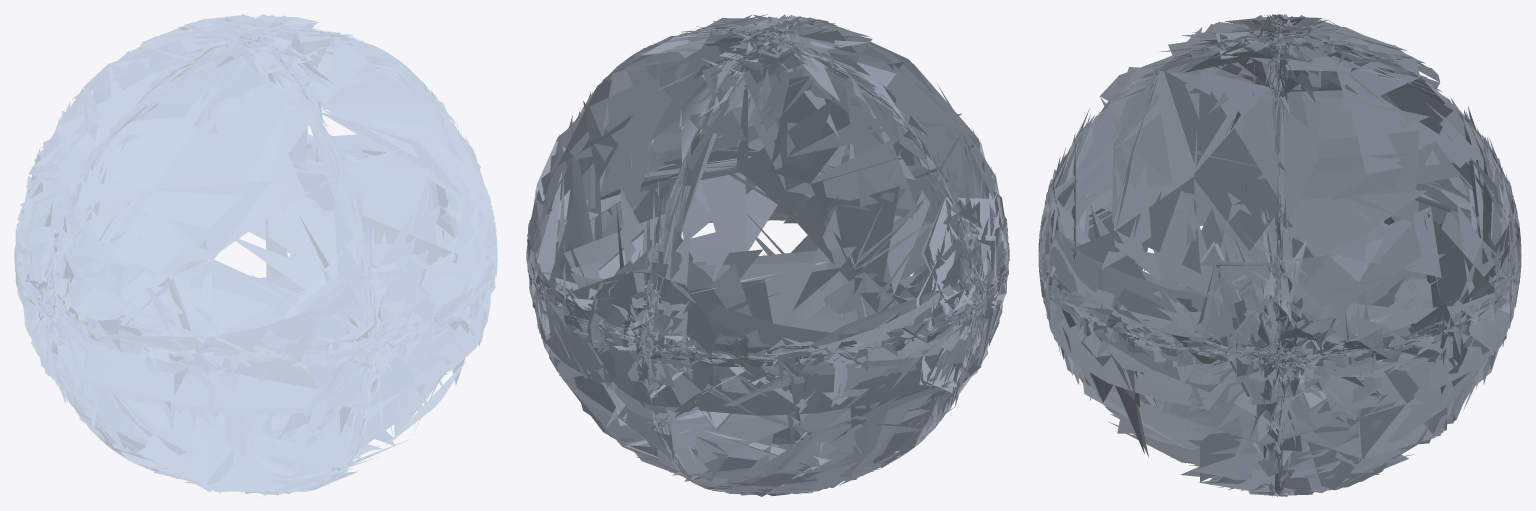
3 renders of one model, left to right at view 1: azimuth 30°, elevation 25°; view 2: azimuth 150°, elevation 25°; view 3: azimuth 270°, elevation 25°, orthographic.
Visible parts, largest first — view 1: 2B-15-structural; view 2: 2B-15-structural; view 3: 2B-15-structural.
Boxes of the visible parts, bbox=[...] form: 2B-15-structural: bbox=[14, 14, 497, 496]; 2B-15-structural: bbox=[526, 14, 1009, 496]; 2B-15-structural: bbox=[1038, 14, 1521, 496].
Size of the model in its own units: 2 by 2 by 2.
